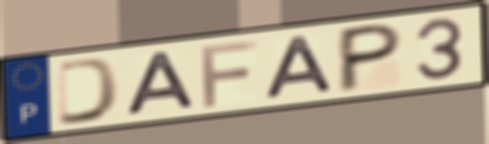3: (412, 14, 465, 83)
A: (120, 49, 200, 118), (262, 32, 338, 101)
D: (54, 55, 124, 128)
F: (197, 37, 261, 109)
P: (333, 21, 406, 96)
